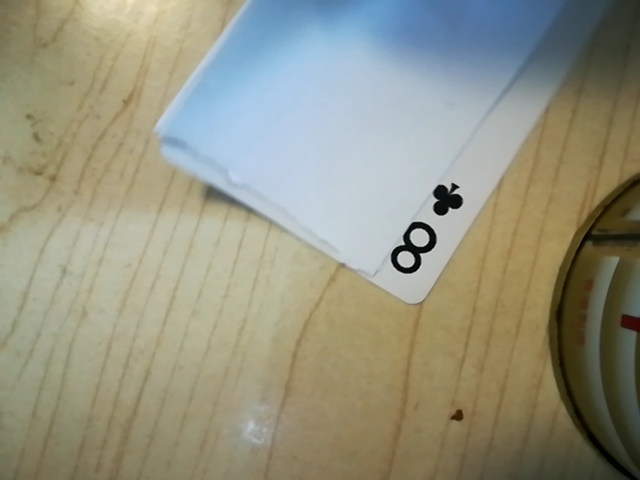mh 8: (376, 174, 470, 288)
